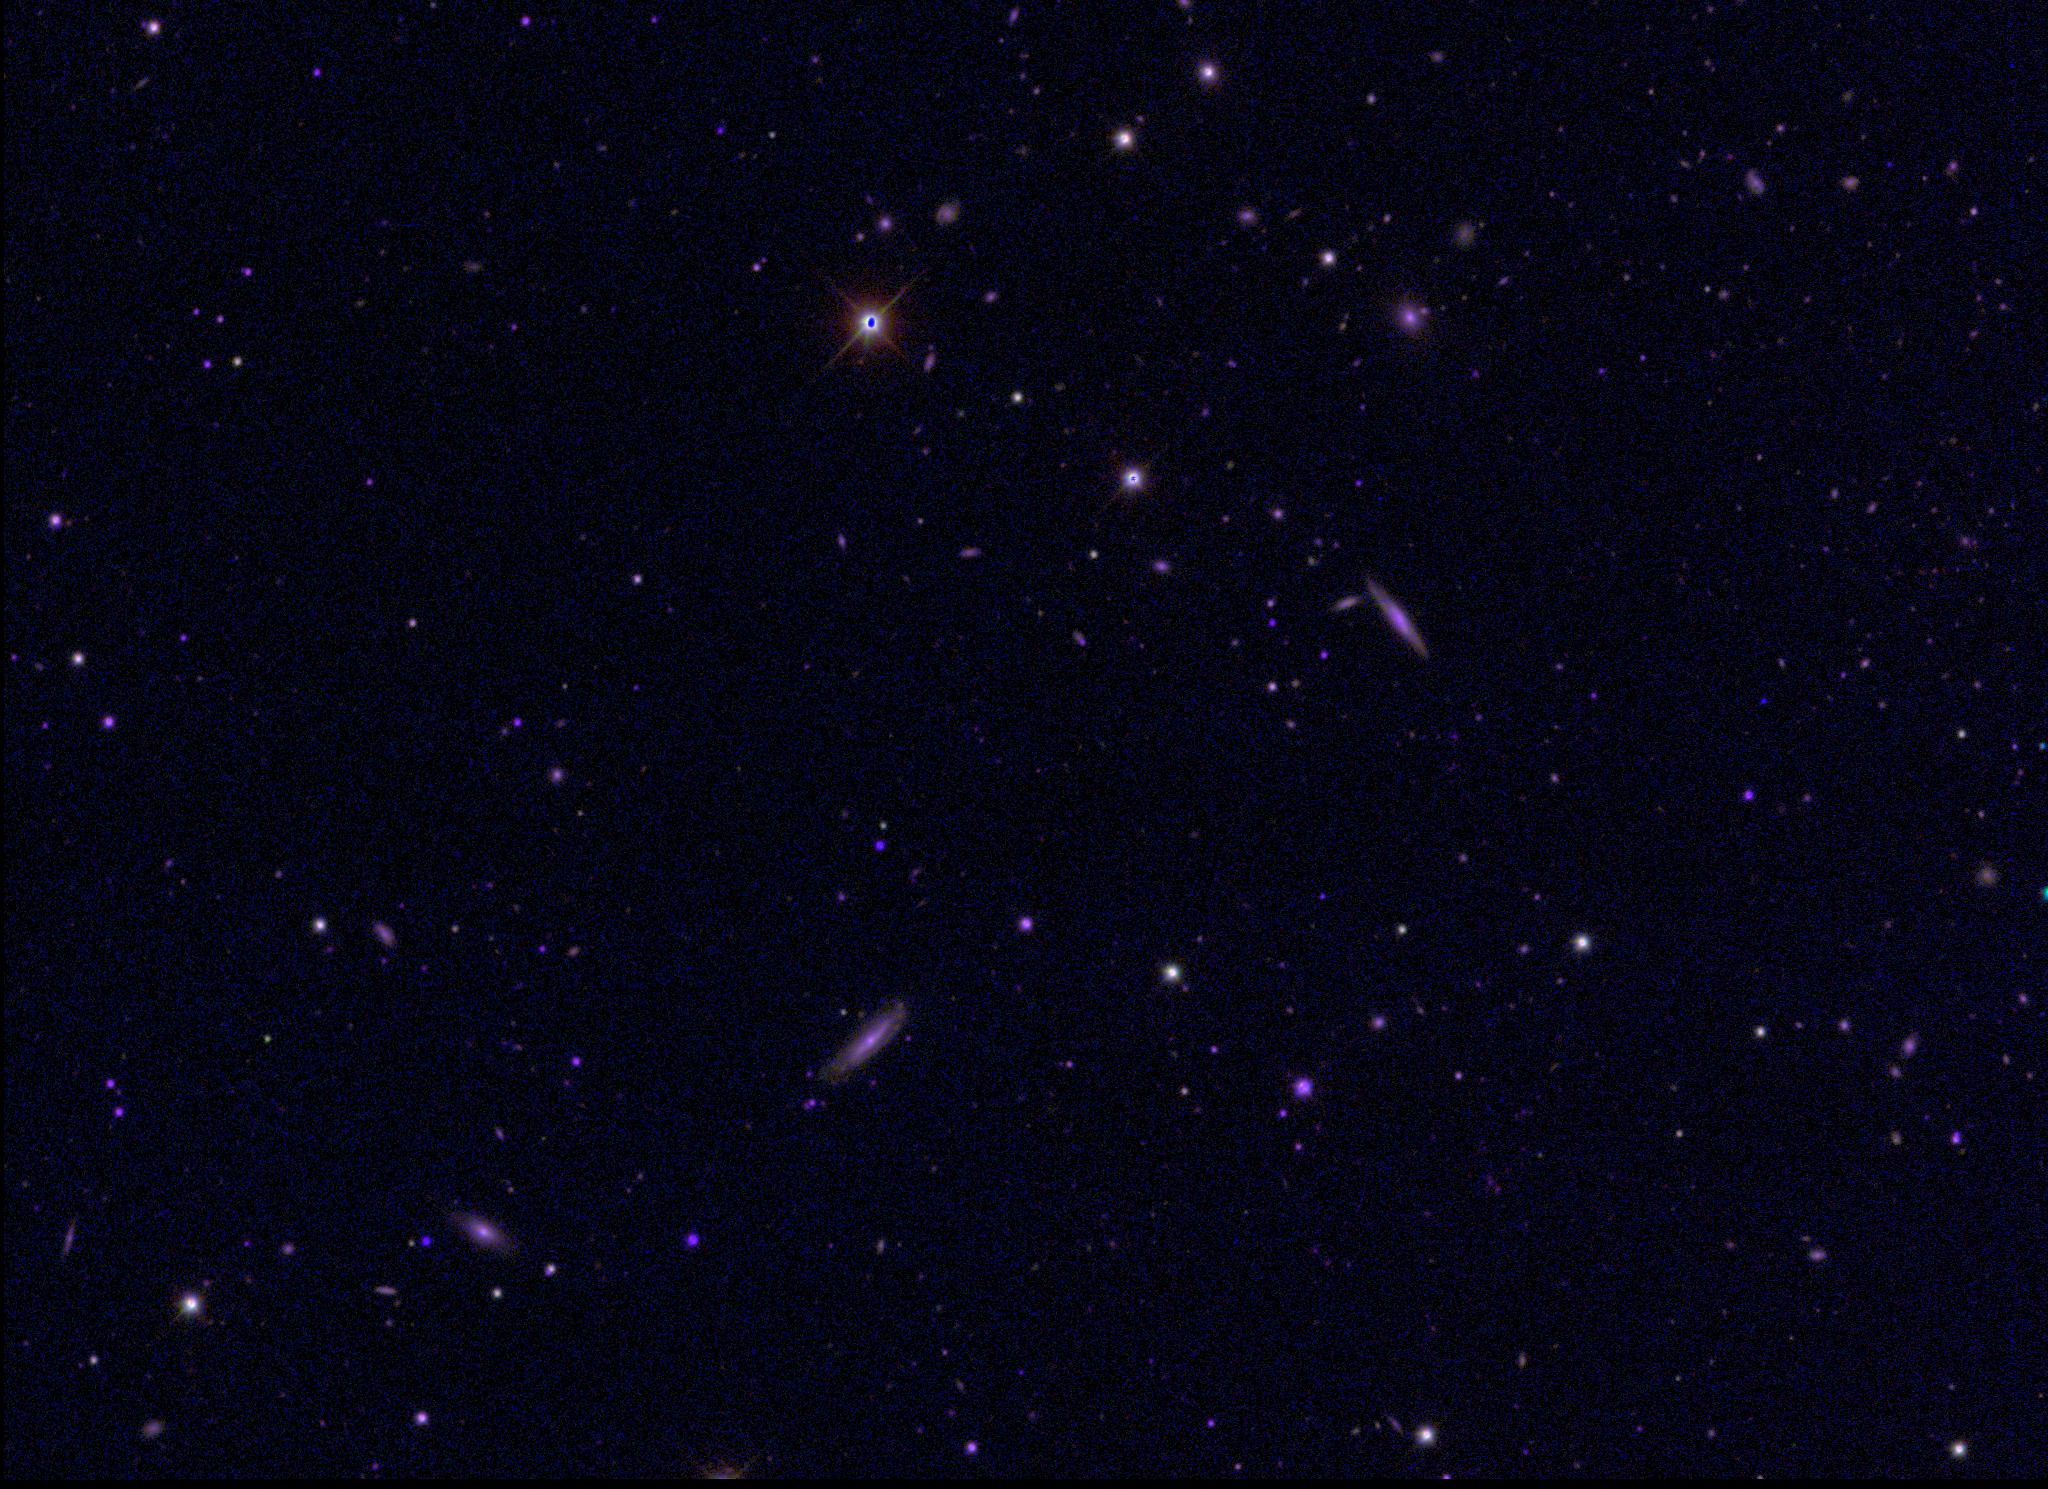L: (1757, 694, 1771, 708)
